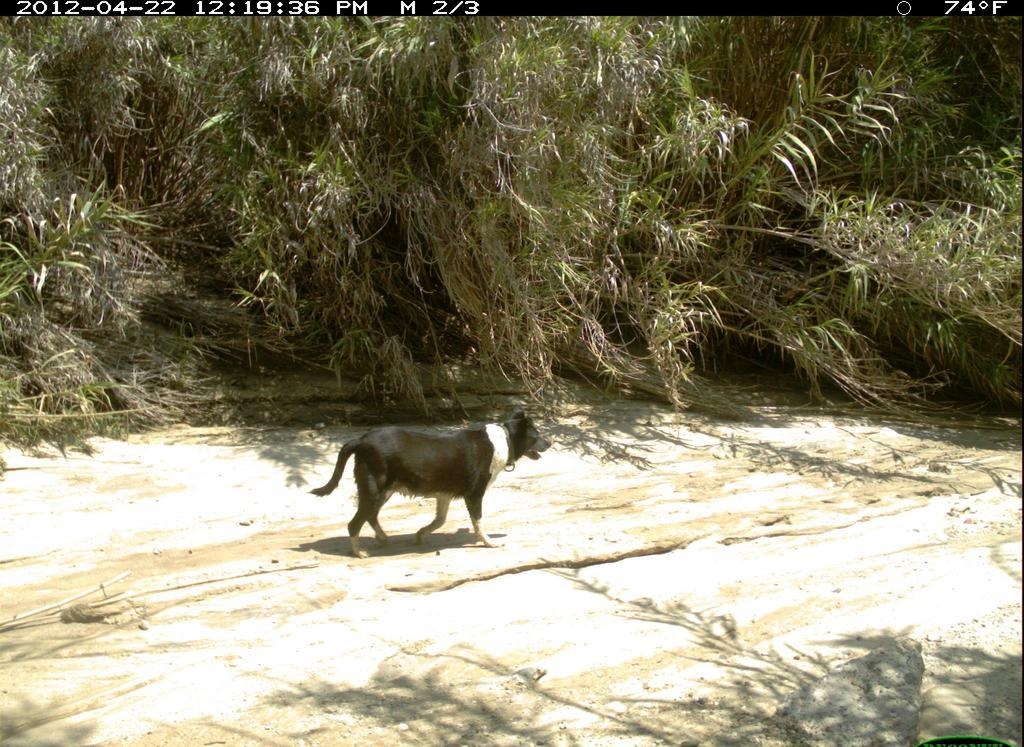dog: (301, 393, 561, 573)
